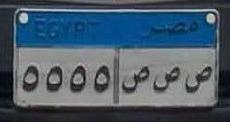5: (66, 60, 88, 98), (20, 61, 41, 97), (92, 60, 112, 96), (44, 61, 64, 96)
saad: (119, 58, 150, 100), (152, 64, 181, 100), (185, 63, 212, 97)
